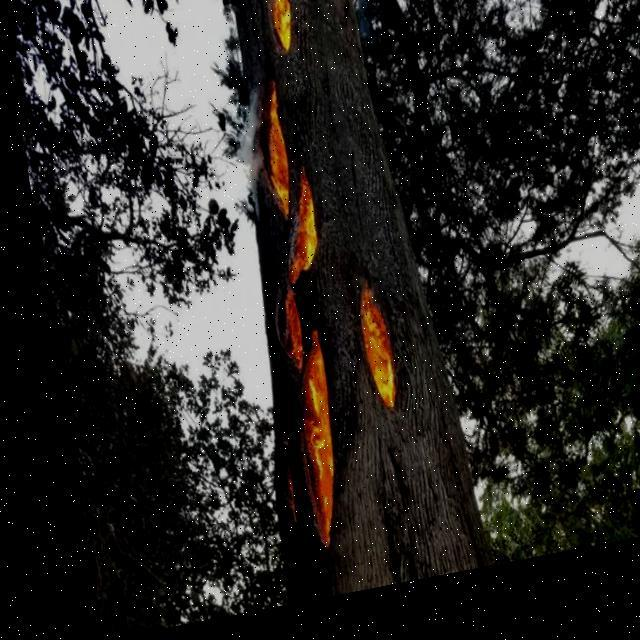Fire: (226, 0, 404, 554)
